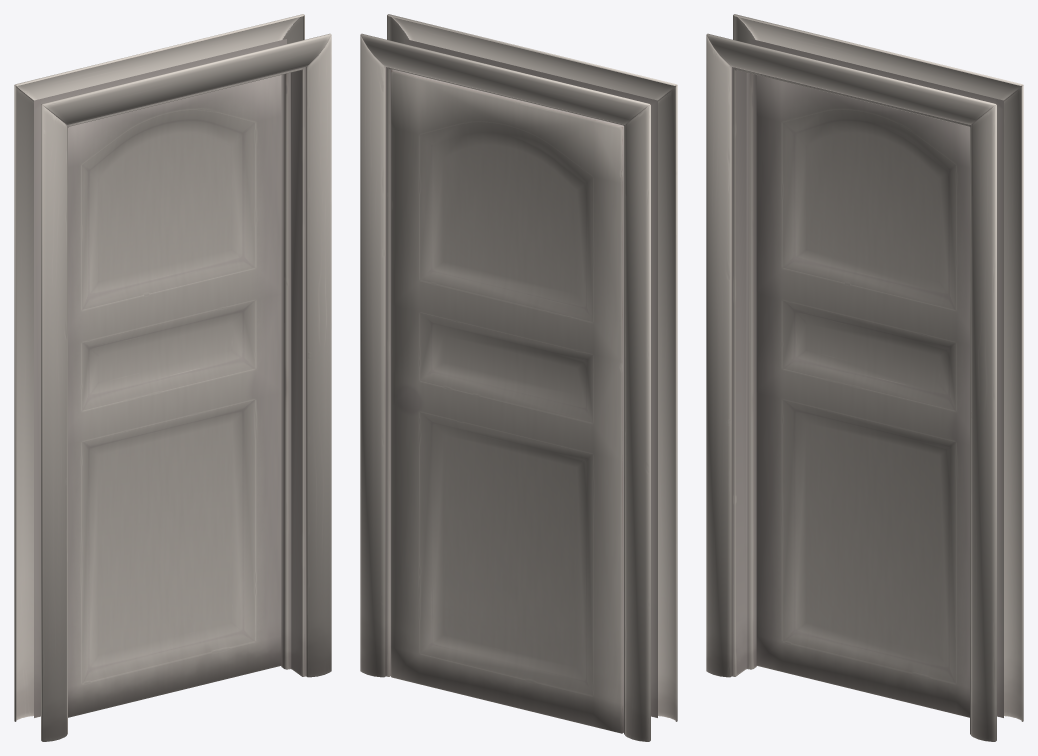
The model's file is classic_door.gltf.
3 views of the same model, side by side, from view 1: azimuth 30°, elevation 25°; view 2: azimuth 150°, elevation 25°; view 3: azimuth 330°, elevation 25° (orthographic).
Visible parts, largest first — view 1: Door leaf, Architrave 2, Door frame, Architrave 1; view 2: Door leaf, Architrave 2, Architrave 1, Door frame; view 3: Door leaf, Architrave 2, Door frame, Architrave 1.
Part boxes in pixels (bbox=[...]): Door leaf: bbox=[68, 75, 281, 717]; Architrave 2: bbox=[14, 15, 331, 741]; Door frame: bbox=[34, 39, 305, 734]; Architrave 1: bbox=[15, 14, 331, 124]; Door leaf: bbox=[391, 69, 623, 733]; Architrave 2: bbox=[360, 15, 677, 741]; Architrave 1: bbox=[360, 14, 676, 124]; Door frame: bbox=[386, 39, 657, 734]; Door leaf: bbox=[756, 75, 969, 717]; Architrave 2: bbox=[706, 15, 1023, 741]; Door frame: bbox=[732, 39, 1003, 734]; Architrave 1: bbox=[706, 14, 1022, 124].
Size of the model in its own units: 1 by 2.1 by 0.1936.
Materials: 1 (1 with a texture image).
